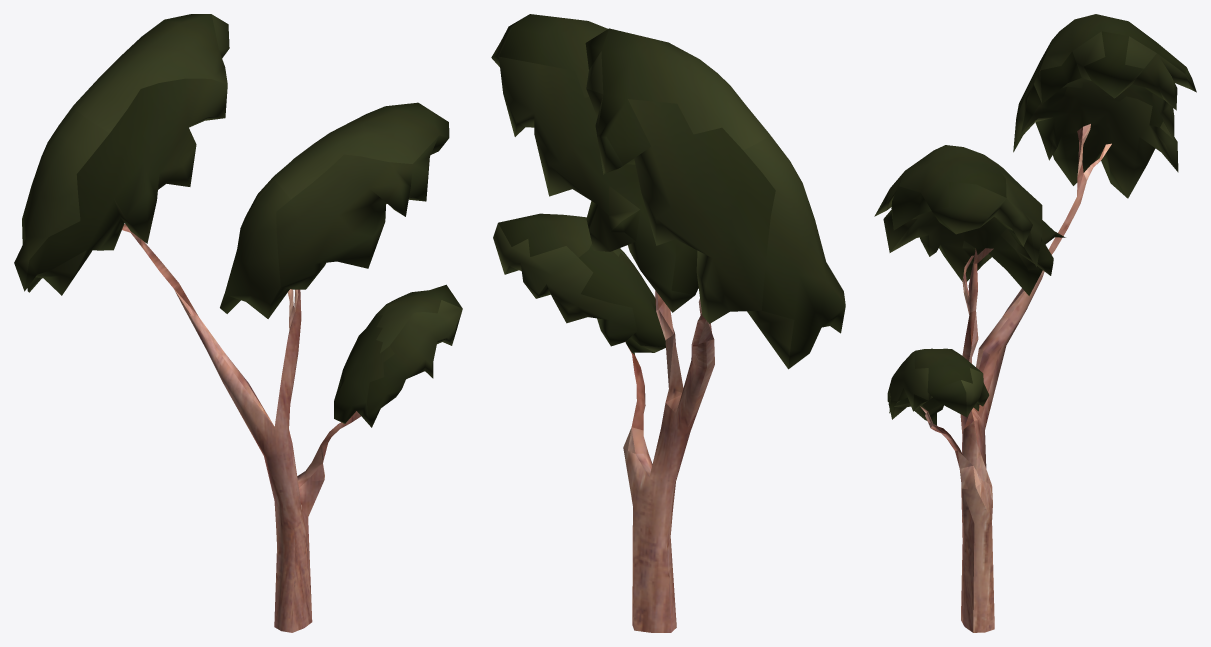
The model's file is bob_tree_savannah_large.FBX.
3 views of the same model, side by side, from view 1: azimuth 30°, elevation 25°; view 2: azimuth 150°, elevation 25°; view 3: azimuth 270°, elevation 25° (orthographic). The views are drawn at different scales.
Visible parts, largest first — view 1: sproutbasic_geo6; view 2: sproutbasic_geo6; view 3: sproutbasic_geo6.
Boxes of the visible parts, <box> form: sproutbasic_geo6: <box>14,14,462,632</box>; sproutbasic_geo6: <box>491,14,845,632</box>; sproutbasic_geo6: <box>874,14,1196,632</box>.
Size of the model in its own units: 330 by 487 by 244.
1 material, 1 textured.
